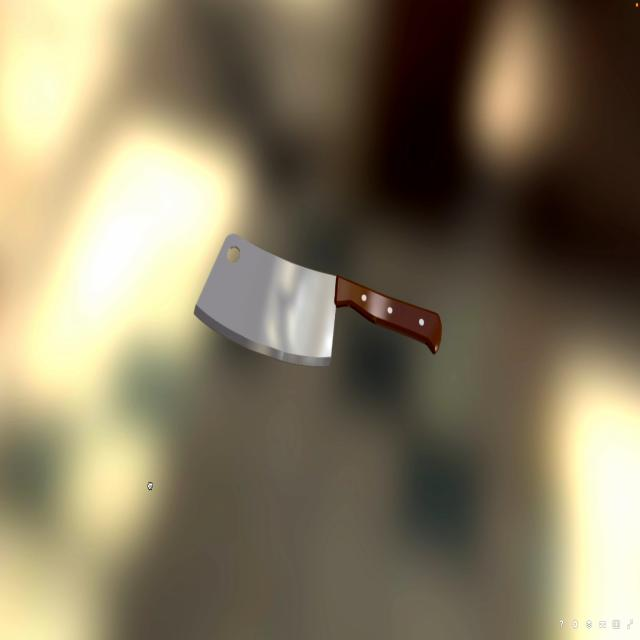cleaver: (195, 235, 448, 375)
